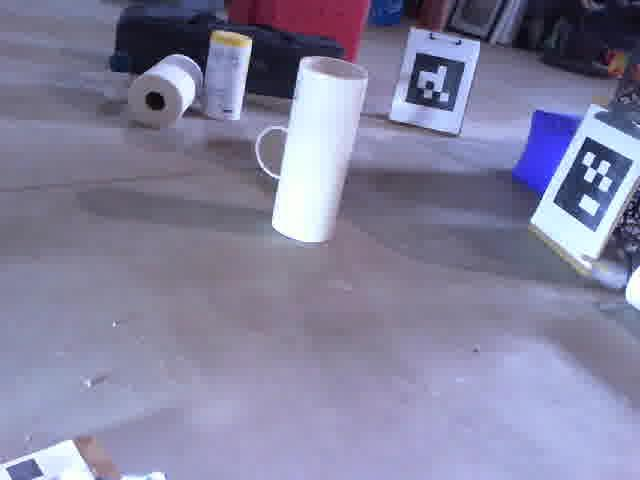coral: (271, 54, 375, 248), (250, 115, 294, 181)
